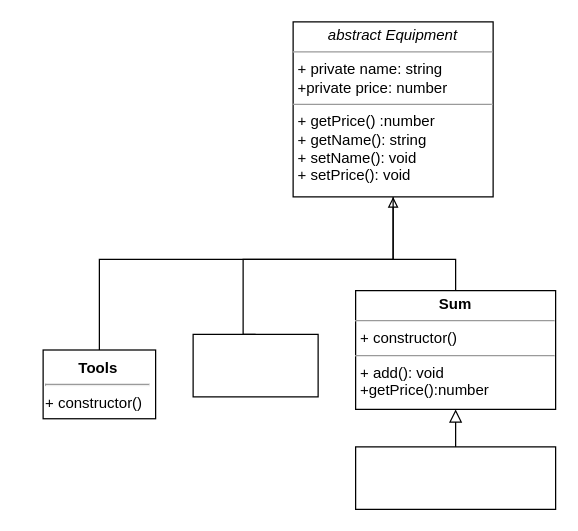
The diagram is 578 pixels wide and 531 high, and some of its shapes have lost their labels. The shapes that lost their labels are listed below. From the top down, each one's centre as x and y in pixels, then its label:
At point (255, 365): "Body + constructor()".
At point (455, 477): "NewCar + constructor()".
